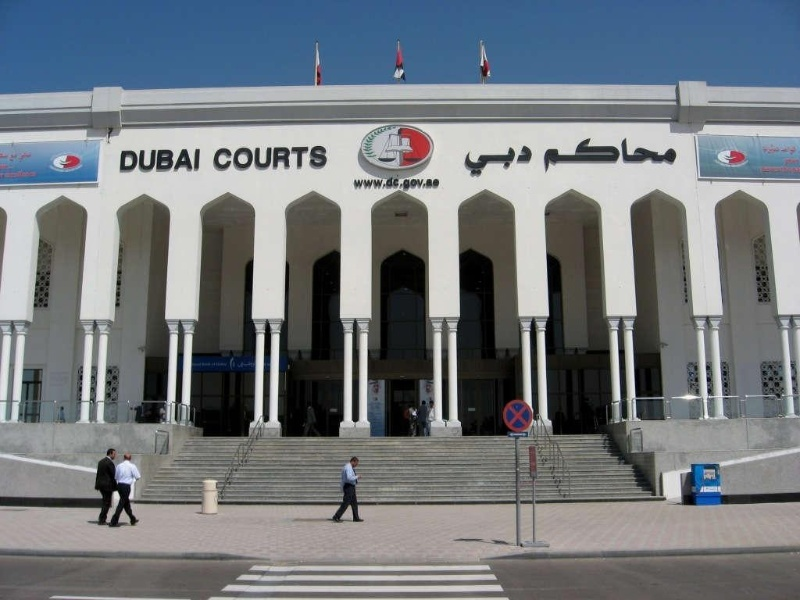text: (545, 136, 560, 176), (561, 136, 576, 176), (577, 136, 592, 176), (593, 136, 608, 176), (609, 136, 624, 176), (625, 136, 640, 176), (641, 136, 656, 176), (657, 136, 672, 176), (481, 145, 496, 178), (497, 145, 512, 178), (513, 145, 528, 178), (225, 144, 240, 171), (241, 144, 256, 171), (257, 144, 272, 171), (273, 144, 288, 171), (289, 144, 304, 171), (305, 144, 320, 171), (468, 145, 480, 178), (129, 148, 144, 172), (145, 148, 160, 172), (161, 148, 176, 172), (177, 148, 192, 172), (673, 136, 681, 176), (214, 144, 224, 171), (529, 145, 537, 178), (769, 159, 784, 175), (785, 159, 800, 175), (193, 148, 202, 172), (321, 144, 329, 171), (769, 142, 784, 156), (1, 165, 16, 179), (17, 165, 32, 179), (785, 142, 799, 156), (193, 358, 208, 371), (209, 358, 224, 371), (225, 358, 240, 371), (120, 148, 128, 172), (353, 178, 368, 190), (369, 178, 384, 190), (385, 178, 400, 190), (401, 178, 416, 190), (417, 178, 432, 190), (1, 151, 16, 163), (17, 151, 32, 163), (757, 159, 768, 175), (241, 358, 254, 371), (759, 142, 768, 156), (541, 136, 544, 176), (33, 165, 41, 179), (433, 178, 442, 190), (33, 151, 36, 163)
